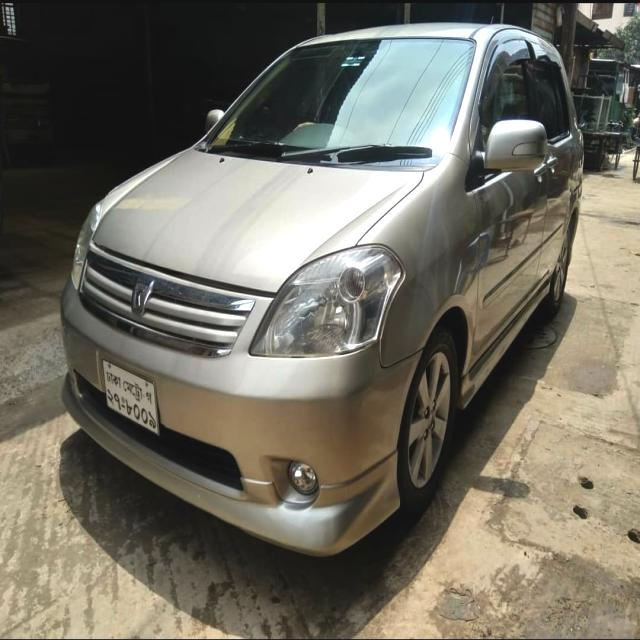silver: (57, 30, 584, 575)
